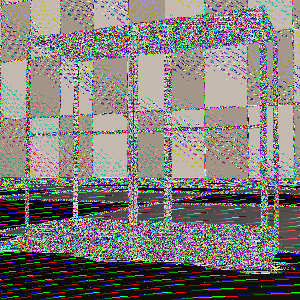Rack: (20, 4, 283, 270)
